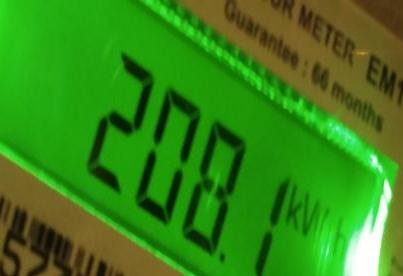.: (281, 182, 367, 257)
0: (216, 249, 228, 266)
1: (138, 85, 199, 225)
2: (251, 168, 295, 276)
3: (86, 43, 152, 187)
9: (181, 119, 243, 254)
